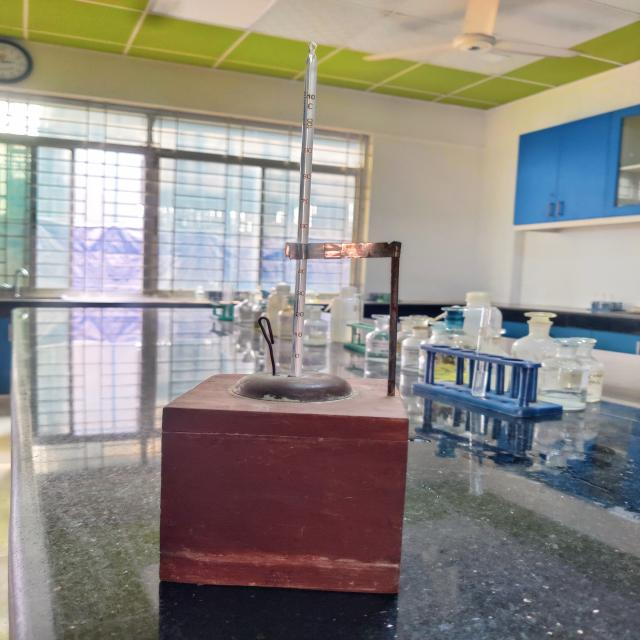Calorimeter: (128, 11, 446, 634)
